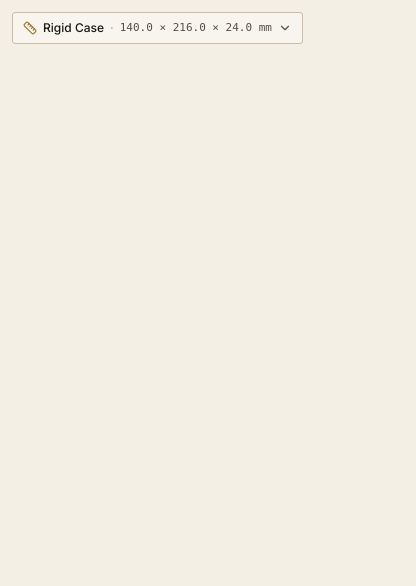
Test: QuickSizePopover › opens popover, updates dimensions, binding style, flap controls, and jumps to Measure Bench
This screenshot has width=416, height=586.
Later steps or results of the test are not shown.
Click the button with test id "quick-size-trigger" at (158, 28), box x1=12 y1=12 x2=303 y2=44
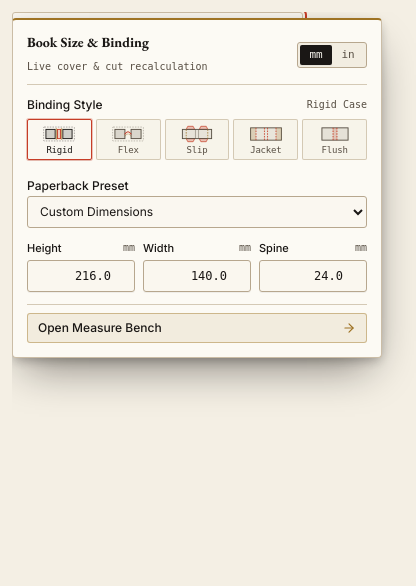
Expected: the element with test id "quick-size-popover" is shown, x1=12 y1=18 x2=382 y2=358
// Update width
Replace the text in the number field with test id "quick-size-pb-width" with "145" at (197, 276), box x1=143 y1=260 x2=251 y2=292
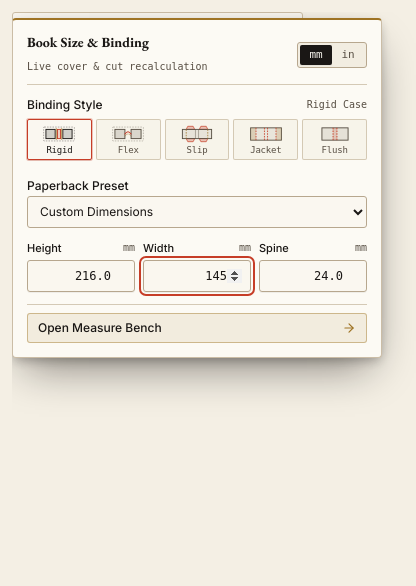
Click the button with test id "quick-size-binding-softcover-jacket" at (197, 139), box x1=165 y1=118 x2=229 y2=160
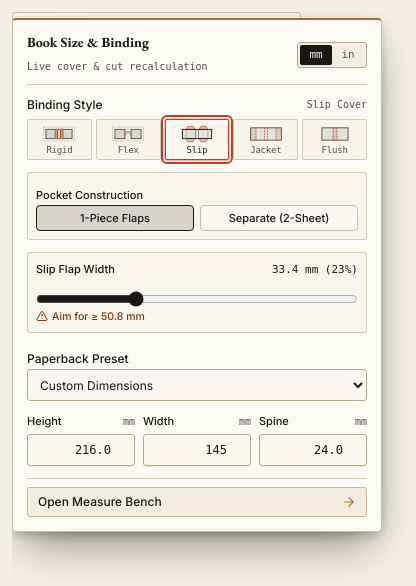
Expected: the element with test id "quick-size-pocket-mode" is shown, x1=27 y1=172 x2=367 y2=240
Expected: the element with test id "quick-size-flap-controls" is shown, x1=27 y1=252 x2=367 y2=333
